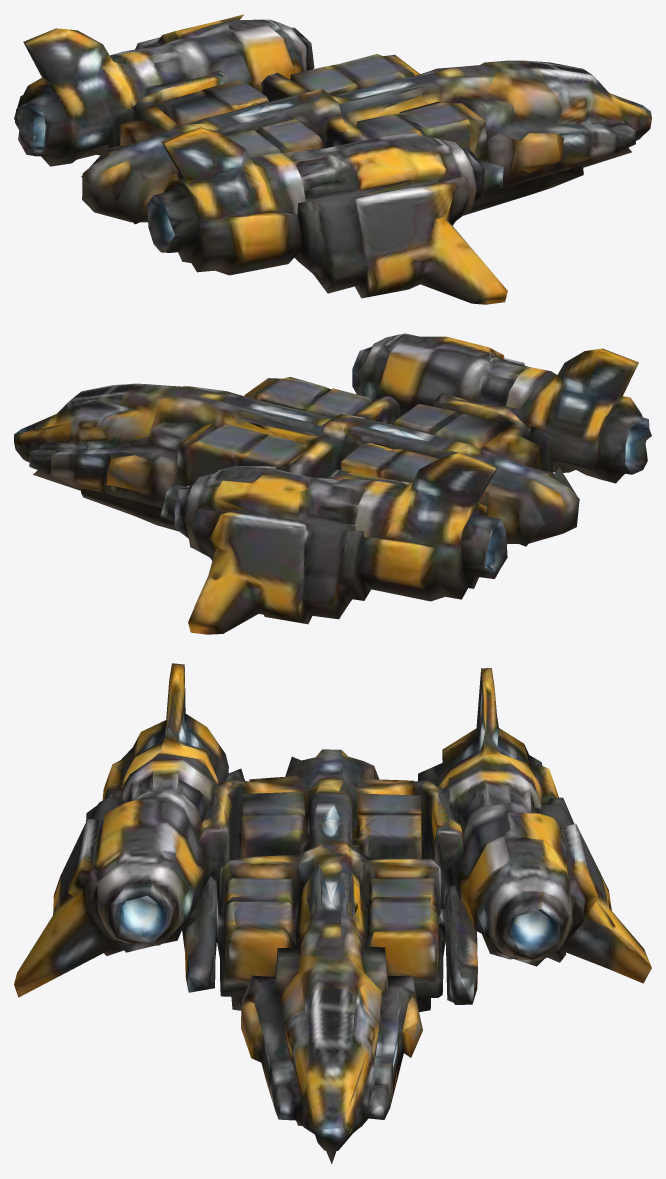
The model's file is courier_lod.glb.
3 views of the same model, one above another, from view 1: azimuth 30°, elevation 25°; view 2: azimuth 150°, elevation 25°; view 3: azimuth 270°, elevation 25° (orthographic). The views are drawn at different scales.
Parts seen in each view (by area): view 1: tripo_node_c7241928-3764-427c-b119-d18a6a233aed; view 2: tripo_node_c7241928-3764-427c-b119-d18a6a233aed; view 3: tripo_node_c7241928-3764-427c-b119-d18a6a233aed.
Part boxes in pixels (left/top/right/bottom): tripo_node_c7241928-3764-427c-b119-d18a6a233aed: left=14, top=14, right=651, bottom=304; tripo_node_c7241928-3764-427c-b119-d18a6a233aed: left=14, top=333, right=651, bottom=634; tripo_node_c7241928-3764-427c-b119-d18a6a233aed: left=14, top=663, right=651, bottom=1164.
Bounding box in the file's own units: 0.9796 × 0.3468 × 0.8782.
1 material, 1 textured.
